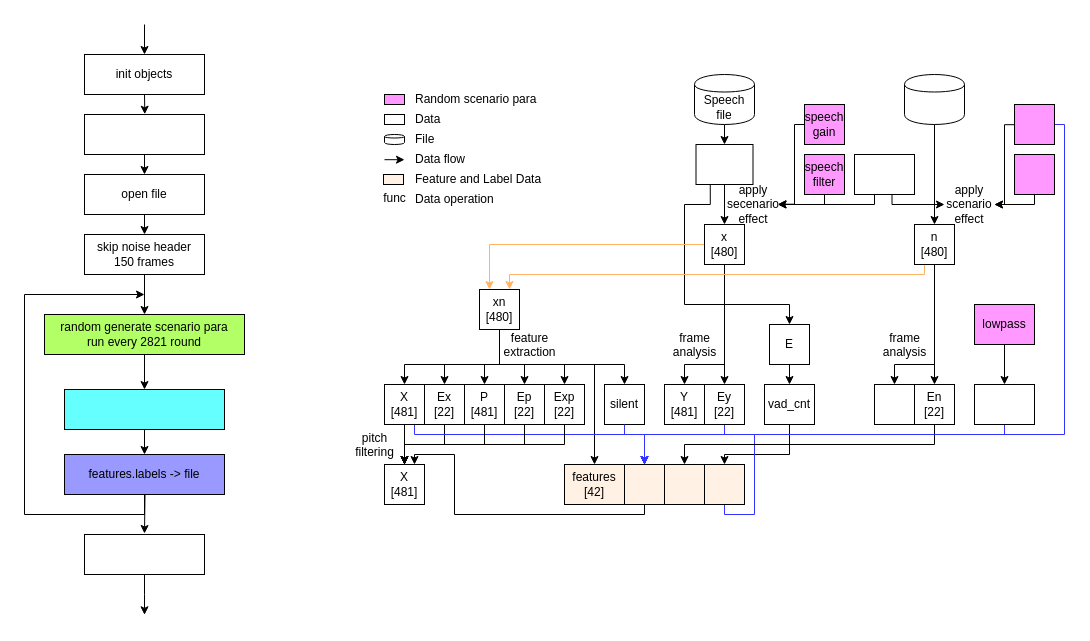
This 1090x641 diagram has some shape labels left out. The shapes that lost their labels are listed below. From the top down, each one's centre as x and y in pixels, then its label:
At point 934,99: "Noise file".
At point 144,134: "parse cmd para".
At point 1034,124: "noise gain".
At point 724,164: "tmp [480]".
At point 884,174: "High pass filter".
At point 1034,174: "noise filter".
At point 144,409: "calc feature and label data".
At point 894,404: "N [481]".
At point 1004,404: "band_lp".
At point 644,484: "g [22]".
At point 684,484: "Ln [22]".
At point 724,484: "vad".
At point 144,554: "close file".
